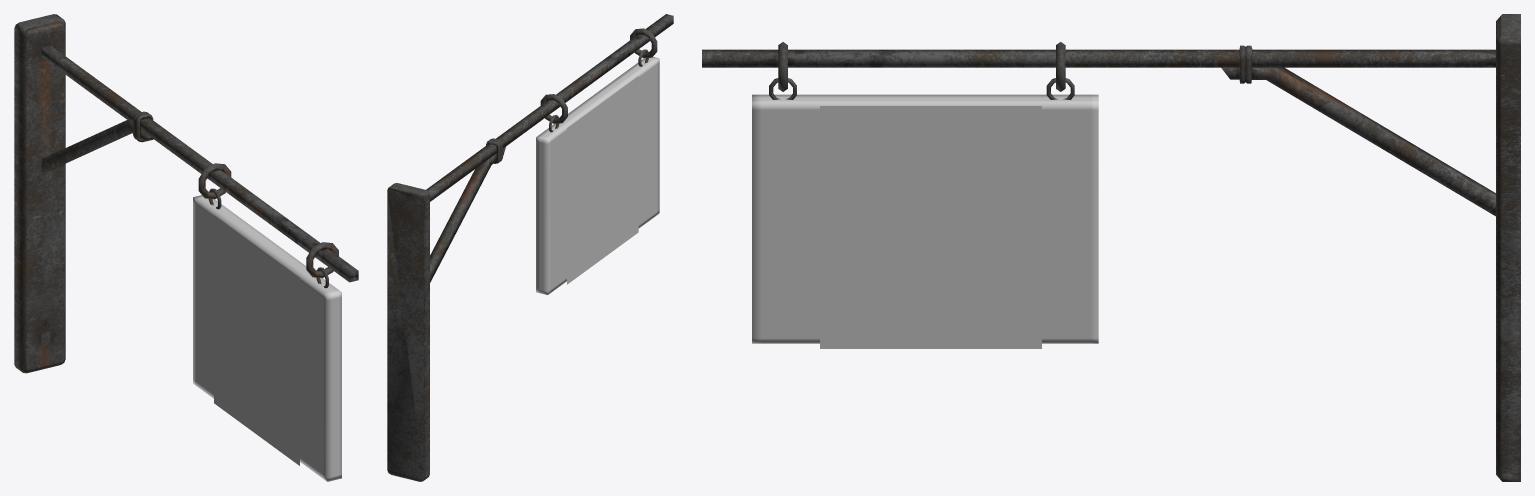
File: SignChemist_mdl.fbx
The picture shows the model from 3 angles, left to right: view 1: azimuth 30°, elevation 25°; view 2: azimuth 150°, elevation 25°; view 3: azimuth 270°, elevation 25°; orthographic projection. The views are drawn at different scales.
Visible parts, largest first — view 1: SignChemist_LOD0; view 2: SignChemist_LOD0; view 3: SignChemist_LOD0.
Part boxes in pixels (x1=…): SignChemist_LOD0: x1=14, y1=14, x2=358, y2=481; SignChemist_LOD0: x1=387, y1=14, x2=673, y2=481; SignChemist_LOD0: x1=702, y1=14, x2=1520, y2=481.
Size of the model in its own units: 16.19 by 121 by 202.
